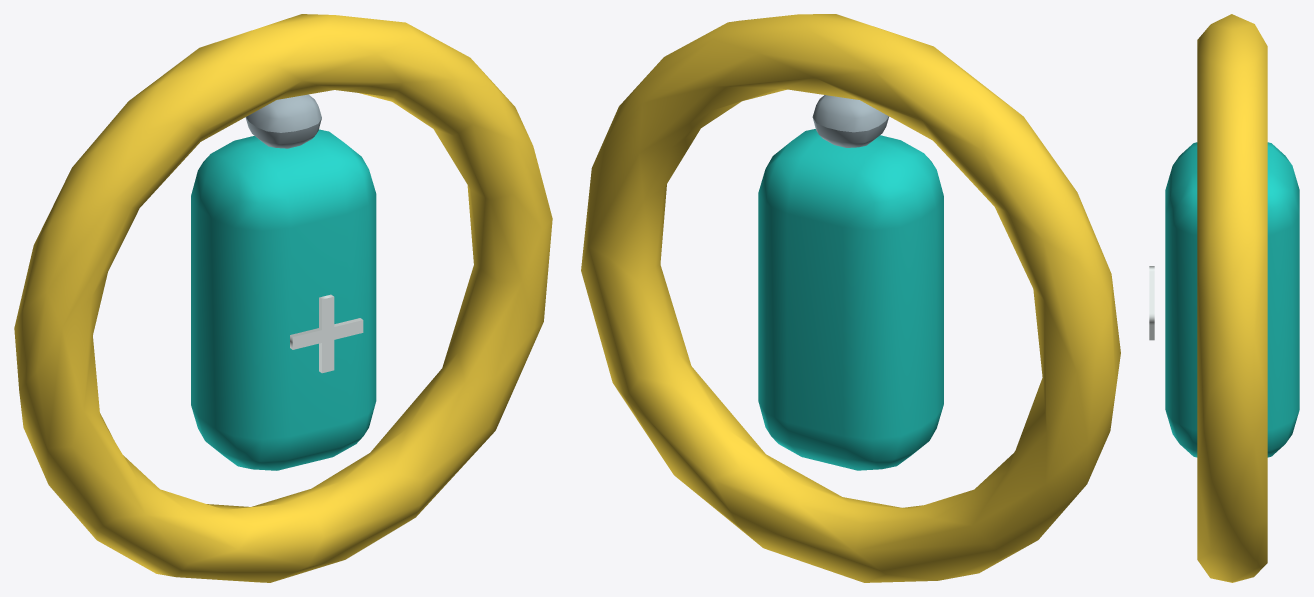
Rendered from Pickup_battery_LOD1.glb.
The picture shows the model from 3 angles, left to right: view 1: azimuth 30°, elevation 25°; view 2: azimuth 150°, elevation 25°; view 3: azimuth 270°, elevation 25°; orthographic projection. The views are drawn at different scales.
Parts seen in each view (by area): view 1: Pickup ring, Battery, Terminal, Charge; view 2: Pickup ring, Battery, Terminal; view 3: Pickup ring, Battery, Charge.
Boxes of the visible parts, bbox=[...] form: Pickup ring: bbox=[14, 14, 552, 582]; Battery: bbox=[191, 129, 376, 470]; Terminal: bbox=[245, 94, 321, 148]; Charge: bbox=[290, 294, 363, 373]; Pickup ring: bbox=[581, 14, 1120, 582]; Battery: bbox=[758, 129, 943, 470]; Terminal: bbox=[812, 95, 889, 147]; Pickup ring: bbox=[1197, 14, 1267, 582]; Battery: bbox=[1165, 142, 1299, 457]; Charge: bbox=[1149, 266, 1154, 340].
Size of the model in its own units: 0.849 by 0.8505 by 0.224.
